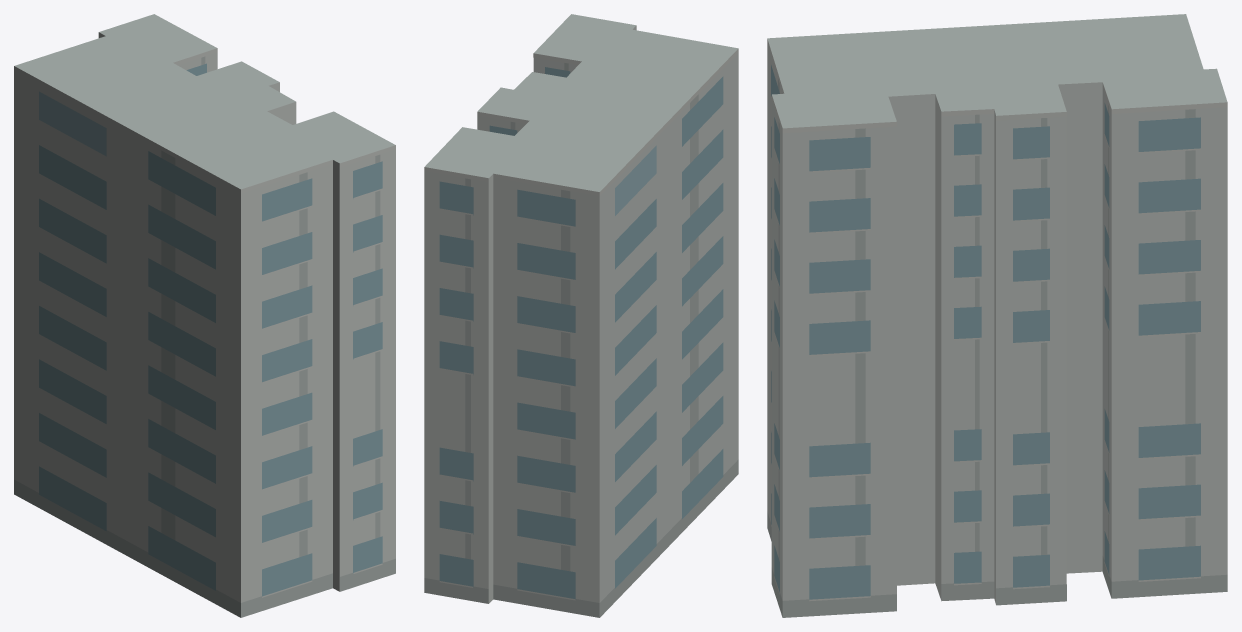
Rendered from survey-upis-32986861.glb.
The picture shows the model from 3 angles, left to right: view 1: azimuth 30°, elevation 25°; view 2: azimuth 150°, elevation 25°; view 3: azimuth 270°, elevation 25°; orthographic projection. The views are drawn at different scales.
Visible parts, largest first — view 1: survey-upis-32986861.tmp; view 2: survey-upis-32986861.tmp; view 3: survey-upis-32986861.tmp.
Part boxes in pixels (bbox=[...]): survey-upis-32986861.tmp: bbox=[14, 14, 395, 617]; survey-upis-32986861.tmp: bbox=[424, 14, 738, 617]; survey-upis-32986861.tmp: bbox=[767, 14, 1227, 617].
Bounding box in the file's own units: 12.24 × 24.4 × 20.8.
